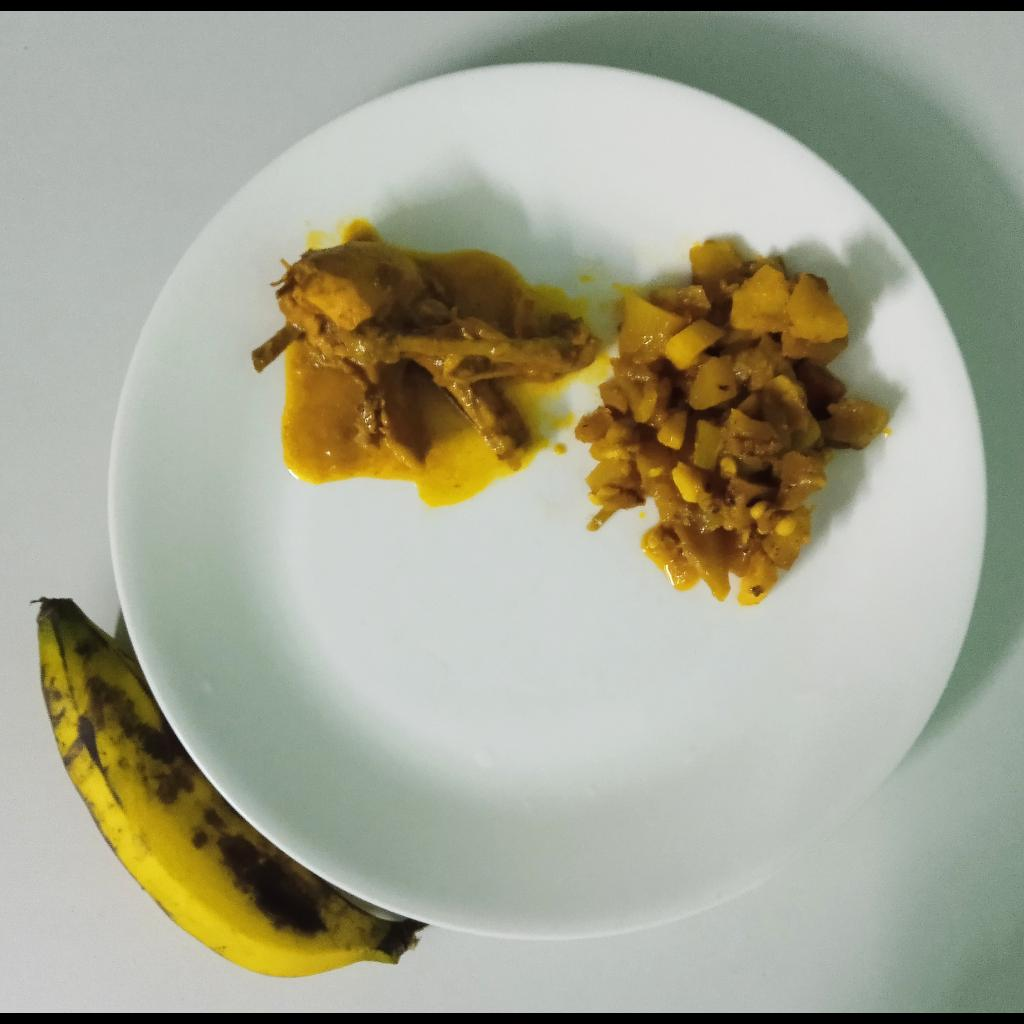banana: (38, 600, 421, 977)
chicken: (250, 242, 604, 476)
kumra-vaji: (573, 237, 888, 613)
